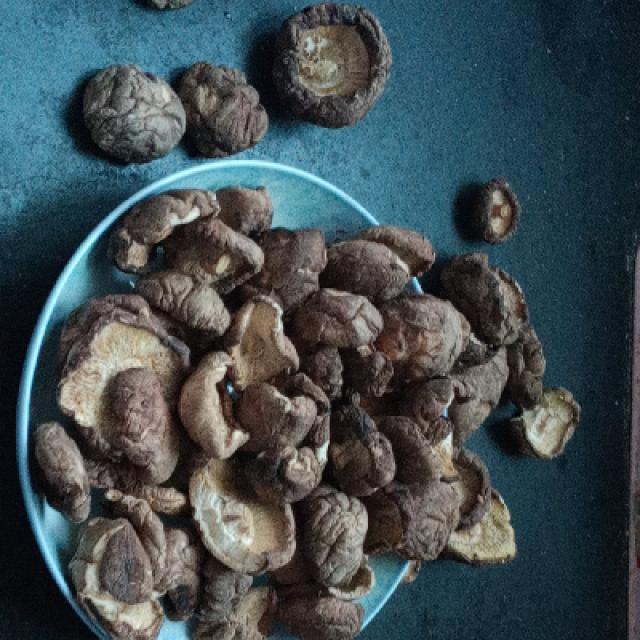Lentinus edodes: (51, 189, 537, 608), (280, 4, 392, 129), (76, 63, 183, 162), (171, 58, 269, 153), (522, 386, 585, 461), (480, 173, 516, 239)
